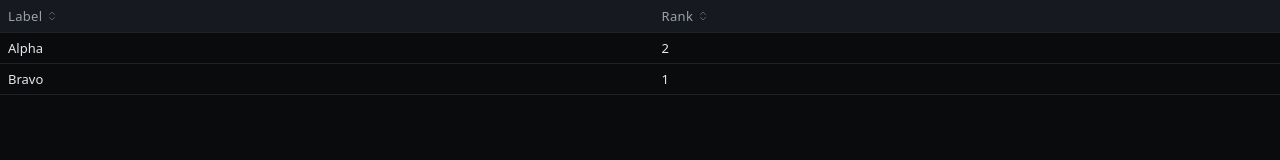
Scenario: FindingsTable — primitive › clicking a different row swaps the expanded panel to it
Click the text "Alpha" at (26, 48), box left=8, top=38, right=43, bottom=56
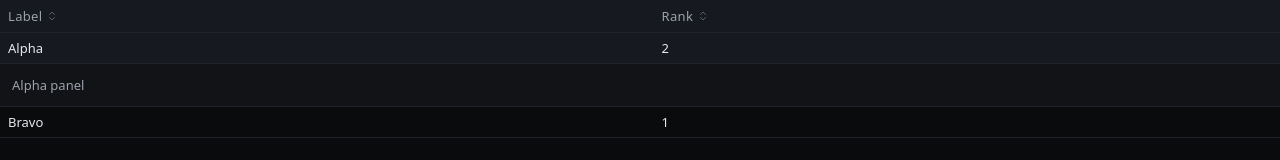
Expected: the text with test id "panel" reads "Alpha panel", left=12, top=76, right=84, bottom=94
Click the text "Bravo" at (26, 122), box left=8, top=113, right=43, bottom=131
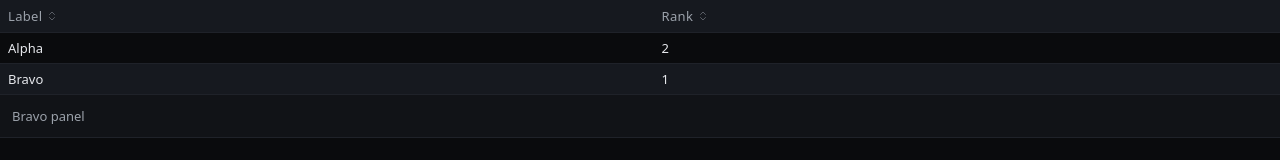
Expected: the text with test id "panel" reads "Bravo panel", left=12, top=107, right=85, bottom=125
